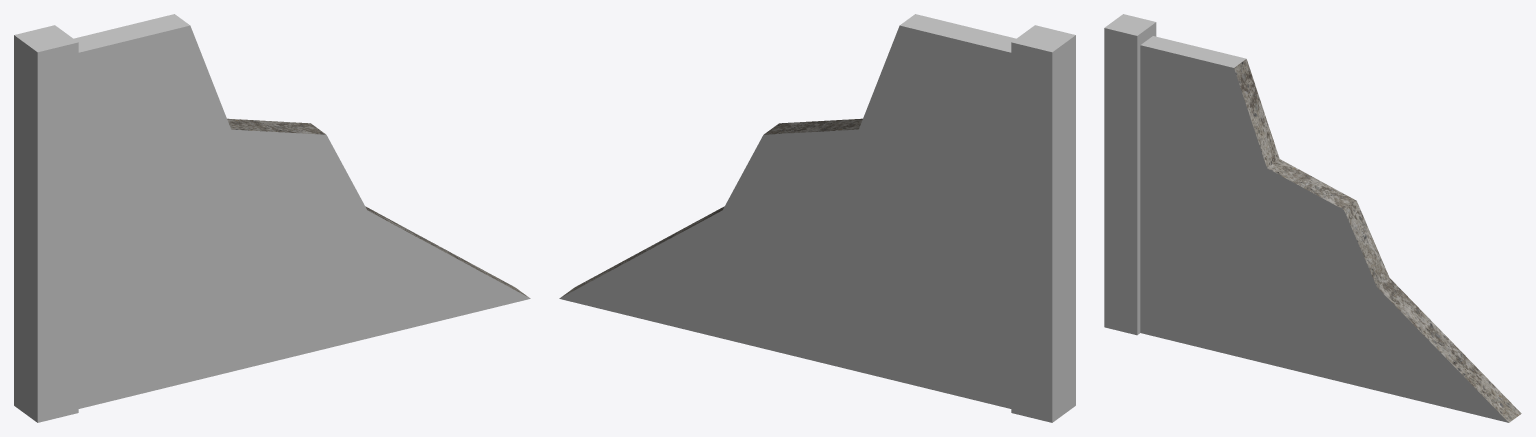
The model's file is Wall_Broken.fbx.
3 renders of one model, left to right at view 1: azimuth 30°, elevation 25°; view 2: azimuth 150°, elevation 25°; view 3: azimuth 330°, elevation 25°, orthographic. The views are drawn at different scales.
Visible parts, largest first — view 1: Wall, Pillar, Broken_Concrete; view 2: Wall, Pillar, Broken_Concrete; view 3: Wall, Pillar, Broken_Concrete.
Boxes of the visible parts, x1=… form: Wall: x1=74, y1=14, x2=530, y2=408; Pillar: x1=14, y1=25, x2=78, y2=422; Broken_Concrete: x1=227, y1=118, x2=529, y2=297; Wall: x1=559, y1=14, x2=1015, y2=408; Pillar: x1=1011, y1=25, x2=1075, y2=422; Broken_Concrete: x1=560, y1=118, x2=862, y2=297; Wall: x1=1140, y1=36, x2=1508, y2=422; Pillar: x1=1104, y1=14, x2=1156, y2=335; Broken_Concrete: x1=1234, y1=59, x2=1521, y2=422.
Size of the model in its own units: 365 by 260 by 30.
